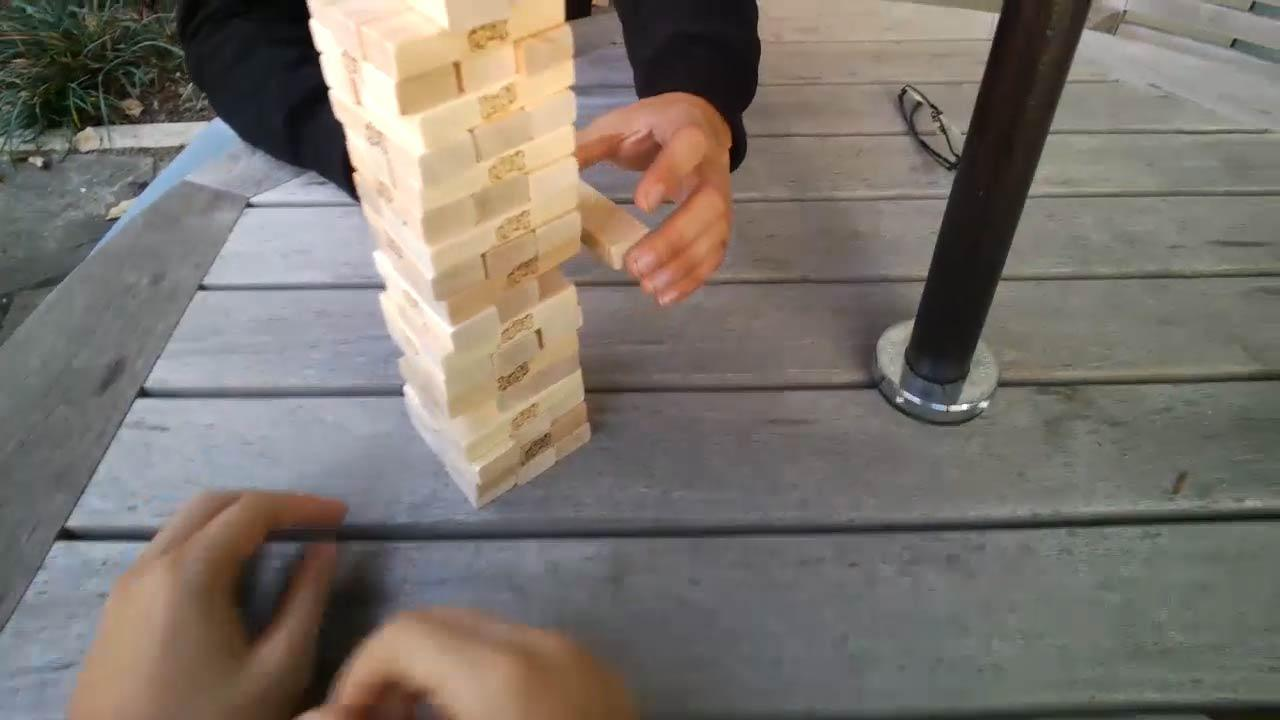hand: (74, 474, 332, 720), (336, 602, 650, 720), (574, 98, 735, 311)
